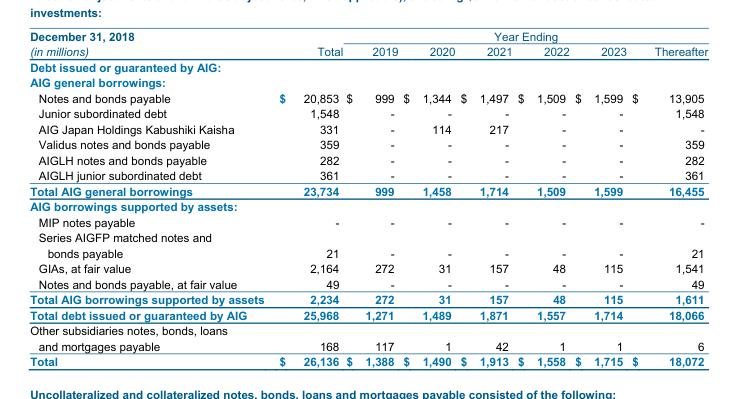table: (29, 29, 707, 367)
table column: (29, 29, 271, 367), (628, 29, 707, 367), (271, 29, 343, 367), (399, 29, 457, 367), (457, 29, 514, 367), (514, 29, 571, 367), (571, 29, 628, 367), (343, 29, 399, 367)
table column header: (29, 29, 707, 59)
table projected row header: (29, 74, 707, 90), (29, 198, 707, 214), (29, 229, 707, 245), (29, 322, 707, 338), (29, 59, 707, 74)
table row: (29, 43, 707, 59), (29, 74, 707, 90), (29, 105, 707, 121), (29, 136, 707, 152), (29, 167, 707, 183), (29, 198, 707, 214), (29, 229, 707, 245), (29, 260, 707, 276), (29, 291, 707, 307), (29, 322, 707, 338), (29, 59, 707, 74), (29, 90, 707, 105), (29, 121, 707, 136), (29, 152, 707, 167), (29, 183, 707, 198), (29, 214, 707, 229), (29, 245, 707, 260), (29, 276, 707, 291), (29, 307, 707, 322), (29, 338, 707, 353), (29, 29, 707, 43), (29, 353, 707, 367)
table spanning cell: (29, 29, 271, 59), (343, 29, 707, 43), (271, 29, 343, 59)
